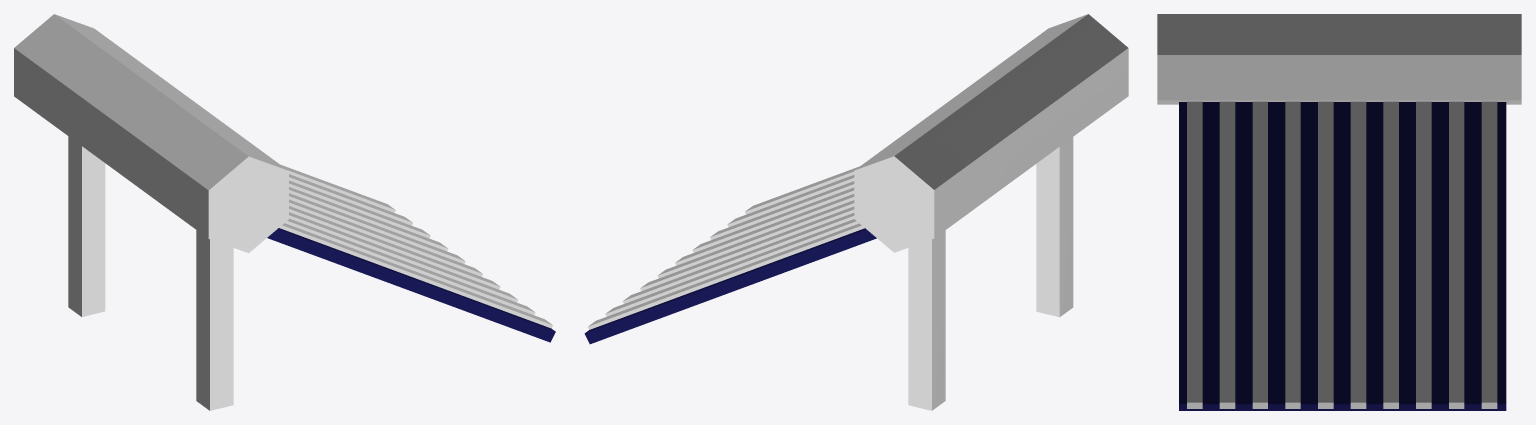
Rendered from pipe.fbx.
3 views of the same model, side by side, from view 1: azimuth 30°, elevation 25°; view 2: azimuth 150°, elevation 25°; view 3: azimuth 270°, elevation 25° (orthographic). The views are drawn at different scales.
Visible parts, largest first — view 1: House 5; view 2: House 5; view 3: House 5.
Boxes of the visible parts, x1=… form: House 5: x1=14, y1=14, x2=555, y2=410; House 5: x1=584, y1=14, x2=1128, y2=410; House 5: x1=1157, y1=14, x2=1521, y2=410.
Bounding box in the file's own units: 217 × 156 × 203.
